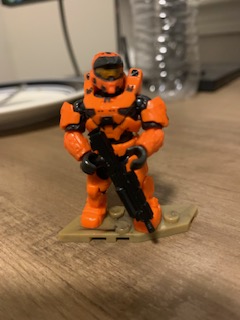rifle: (84, 126, 157, 236)
spartan: (60, 48, 170, 235)
